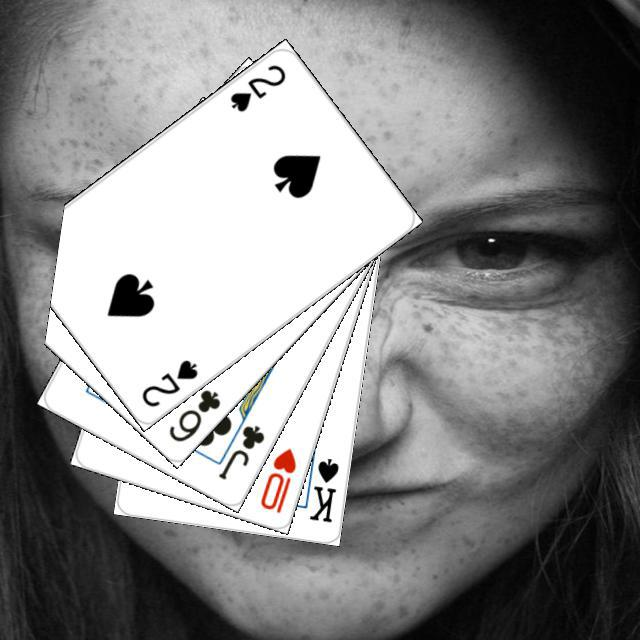10h: (255, 443, 298, 515)
2s: (136, 354, 200, 409), (224, 59, 288, 114)
6c: (163, 384, 222, 444)
Jc: (213, 420, 266, 482)
Ks: (304, 453, 341, 524)
